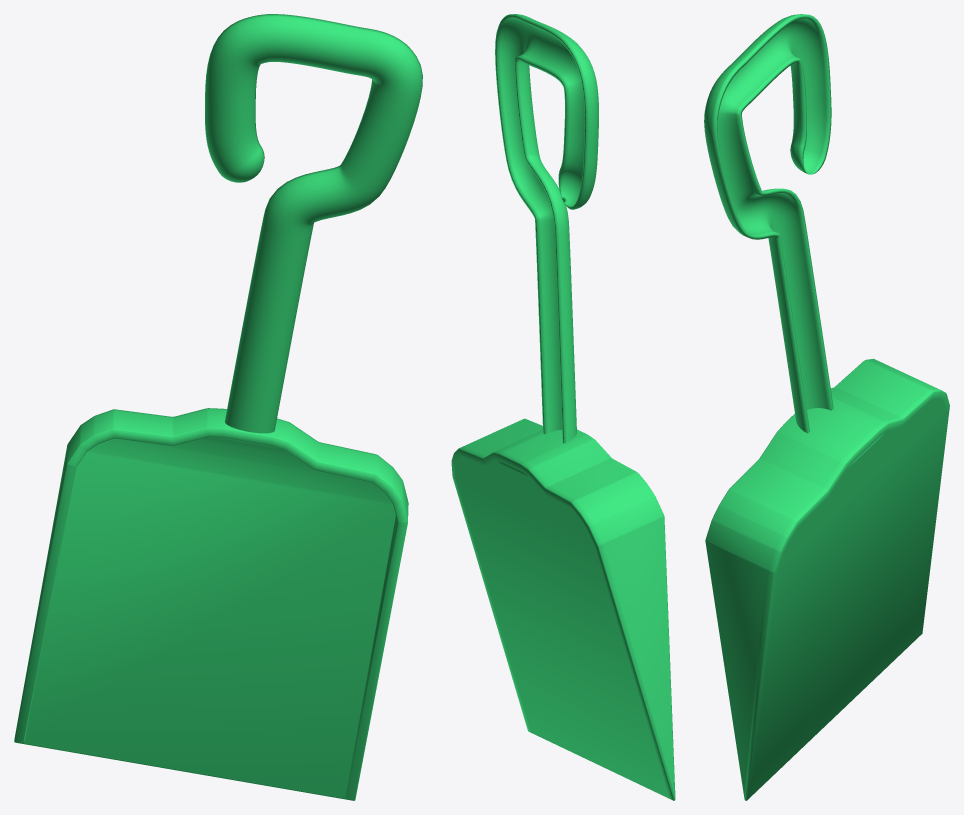
The picture shows the model from 3 angles, left to right: view 1: azimuth 30°, elevation 25°; view 2: azimuth 150°, elevation 25°; view 3: azimuth 270°, elevation 25°; orthographic projection. The views are drawn at different scales.
Parts seen in each view (by area): view 1: BezierCurve.002; view 2: BezierCurve.002; view 3: BezierCurve.002.
Part boxes in pixels (x1=…): BezierCurve.002: x1=14, y1=14, x2=422, y2=800; BezierCurve.002: x1=451, y1=14, x2=675, y2=800; BezierCurve.002: x1=704, y1=14, x2=949, y2=800.
Bounding box in the file's own units: 0.5115 × 1.21 × 0.356.
